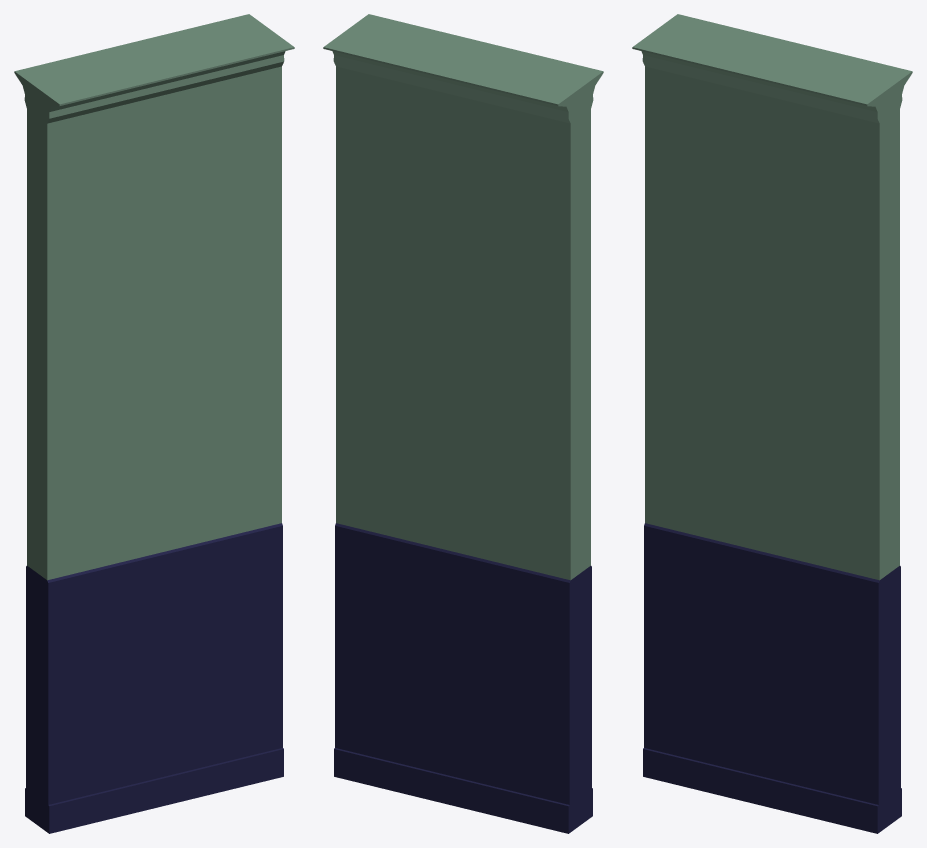
The model's file is wall_1m.fbx.
3 renders of one model, left to right at view 1: azimuth 30°, elevation 25°; view 2: azimuth 150°, elevation 25°; view 3: azimuth 330°, elevation 25°, orthographic.
Parts seen in each view (by area): view 1: Cube.003; view 2: Cube.003; view 3: Cube.003.
Boxes of the visible parts, left/top/right/bottom form: Cube.003: left=14, top=14, right=294, bottom=833; Cube.003: left=323, top=14, right=603, bottom=833; Cube.003: left=632, top=14, right=912, bottom=833.
Bounding box in the file's own units: 100 × 300 × 33.43.
